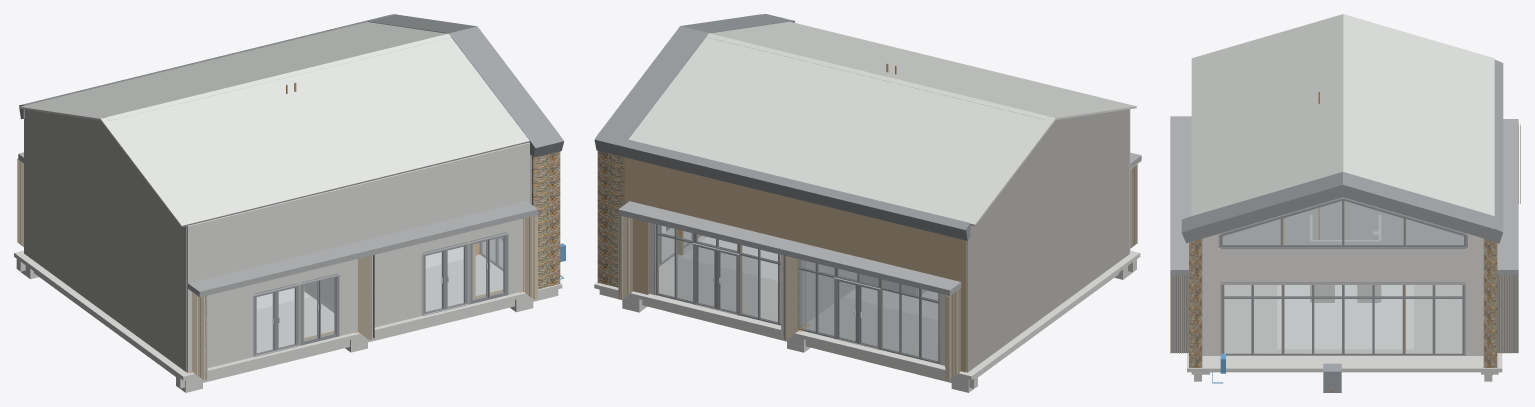
The model's file is NAVE_TIPO_2V.glb.
The picture shows the model from 3 angles, left to right: view 1: azimuth 30°, elevation 25°; view 2: azimuth 150°, elevation 25°; view 3: azimuth 270°, elevation 25°; orthographic projection. The views are drawn at different scales.
Parts seen in each view (by area): view 1: Geom3D (×62), Geom3D_CENEFA#10_CENEFA; view 2: Geom3D (×55), Geom3D_CENEFA#10_CENEFA; view 3: Geom3D (×53), Geom3D_CENEFA#10_CENEFA.
Part boxes in pixels (bbox=[...]): Geom3D (×62): bbox=[14, 14, 564, 392]; Geom3D_CENEFA#10_CENEFA: bbox=[368, 14, 476, 33]; Geom3D (×55): bbox=[594, 14, 1140, 392]; Geom3D_CENEFA#10_CENEFA: bbox=[599, 26, 708, 139]; Geom3D (×53): bbox=[1170, 14, 1520, 392]; Geom3D_CENEFA#10_CENEFA: bbox=[1343, 172, 1494, 228].
Bounding box in the file's own units: 16.36 × 8.45 × 13.3.
35 materials, 1 textured.
